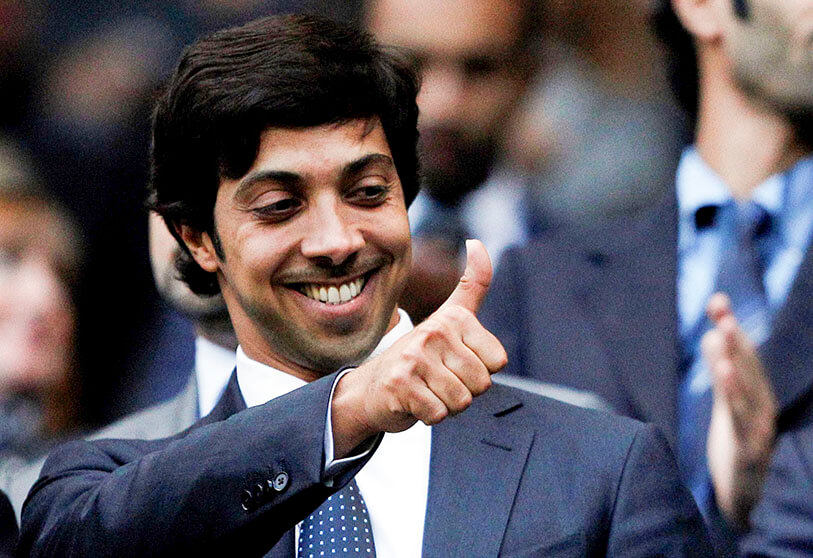thumbsUp: (335, 228, 511, 452)
